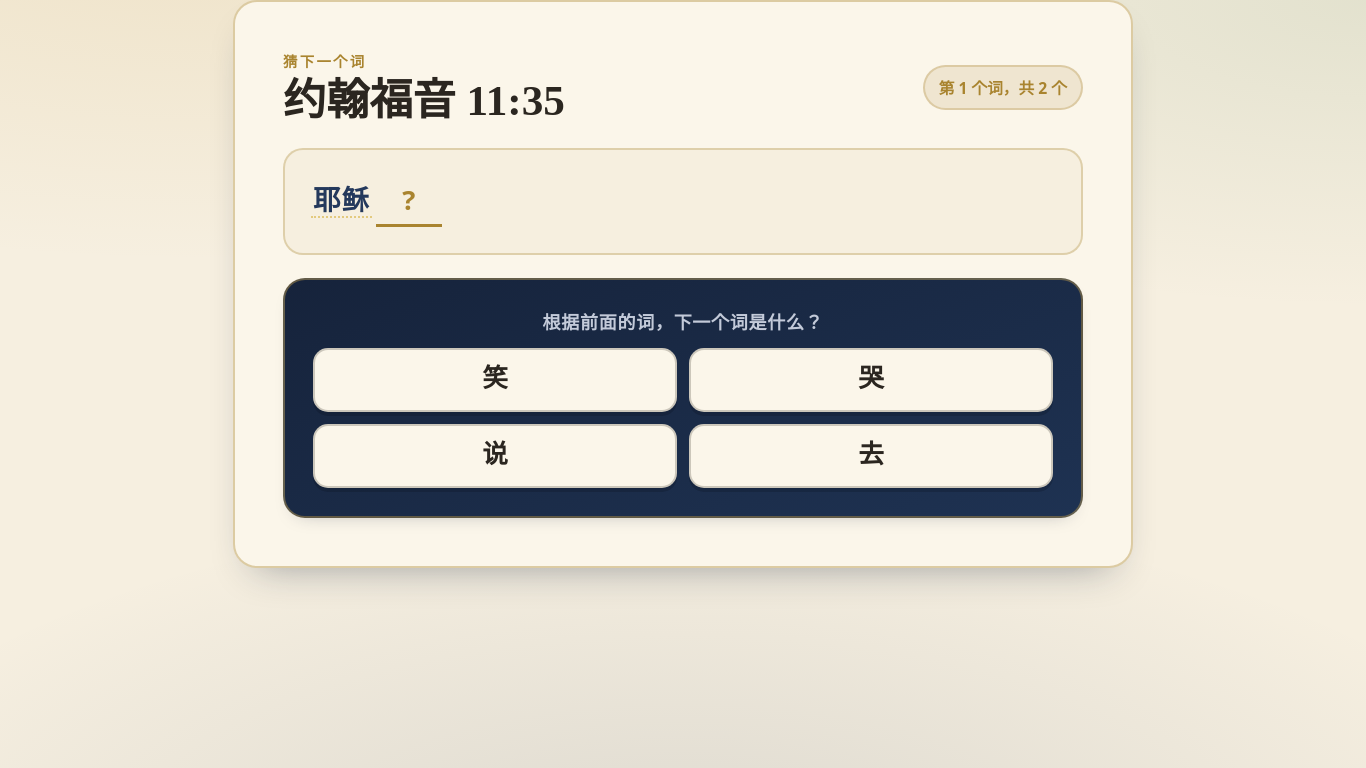
Guess the Next Word screen › speaks Chinese for a Chinese passage
Expected: the text "猜下一个词" is shown, [283, 52, 366, 71]
Expected: the text "第 1 个词，共 2 个" is shown, [923, 65, 1083, 110]
Click the button named "选项：哭" at (871, 380), box [689, 348, 1053, 412]
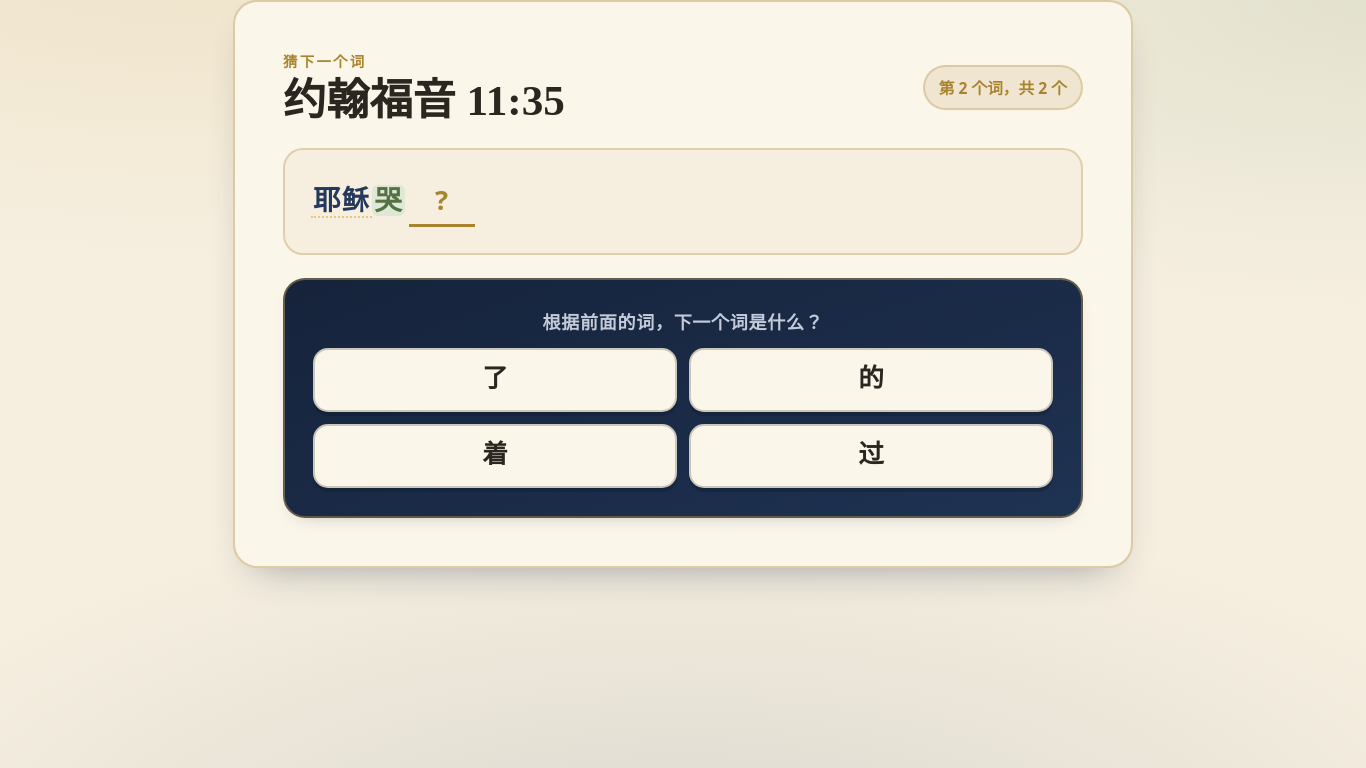
Click the button named "选项：了" at (495, 380), box [313, 348, 677, 412]
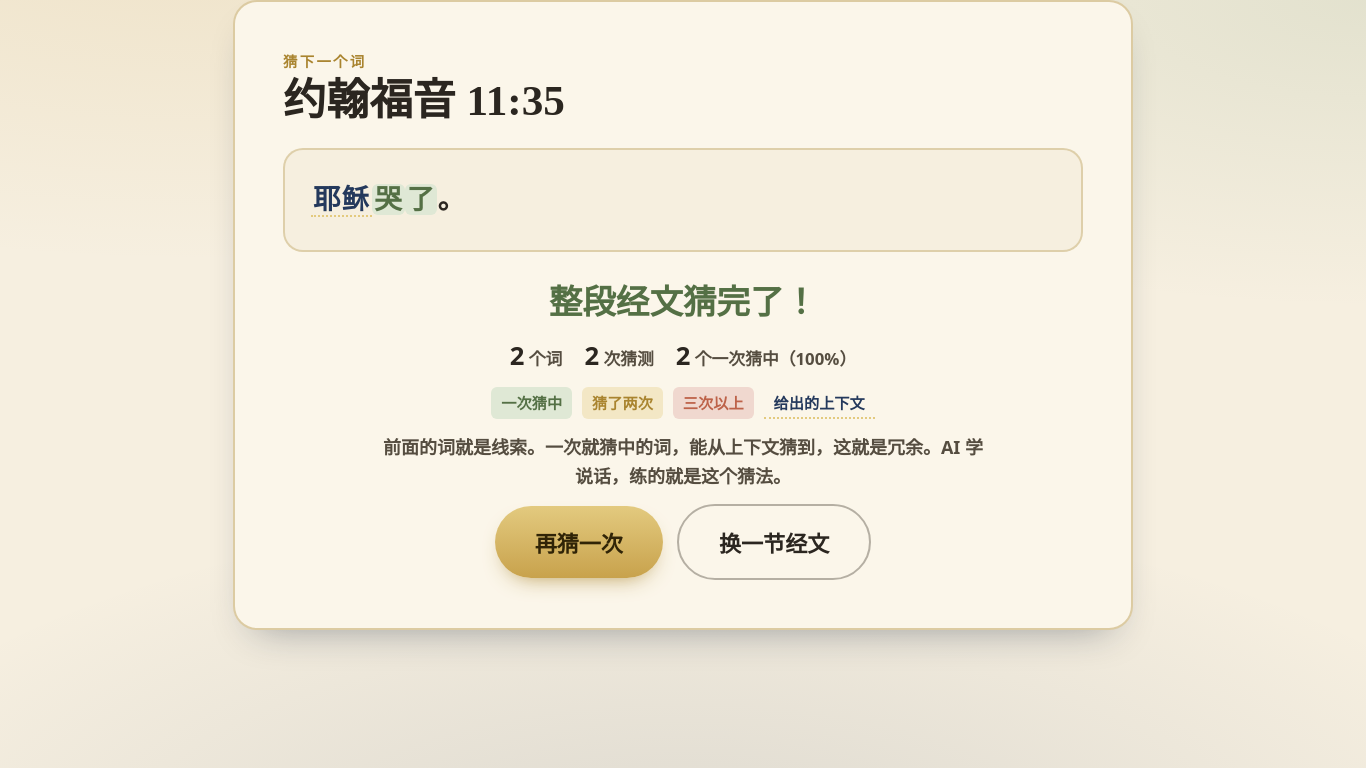
Now the element with class "guess__verse" reads "耶稣哭了。", box [283, 148, 1083, 252]
Now the message shows "整段经文猜完了！", box [549, 278, 817, 324]
Now the message shows "2 个一次猜中（100%）", box [383, 278, 983, 580]
